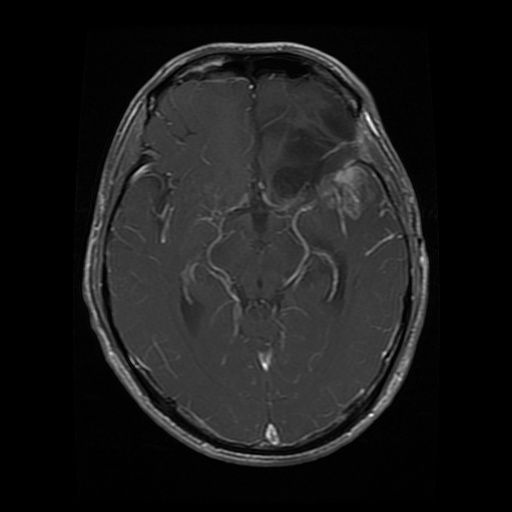glioma: (262, 78, 386, 220)
